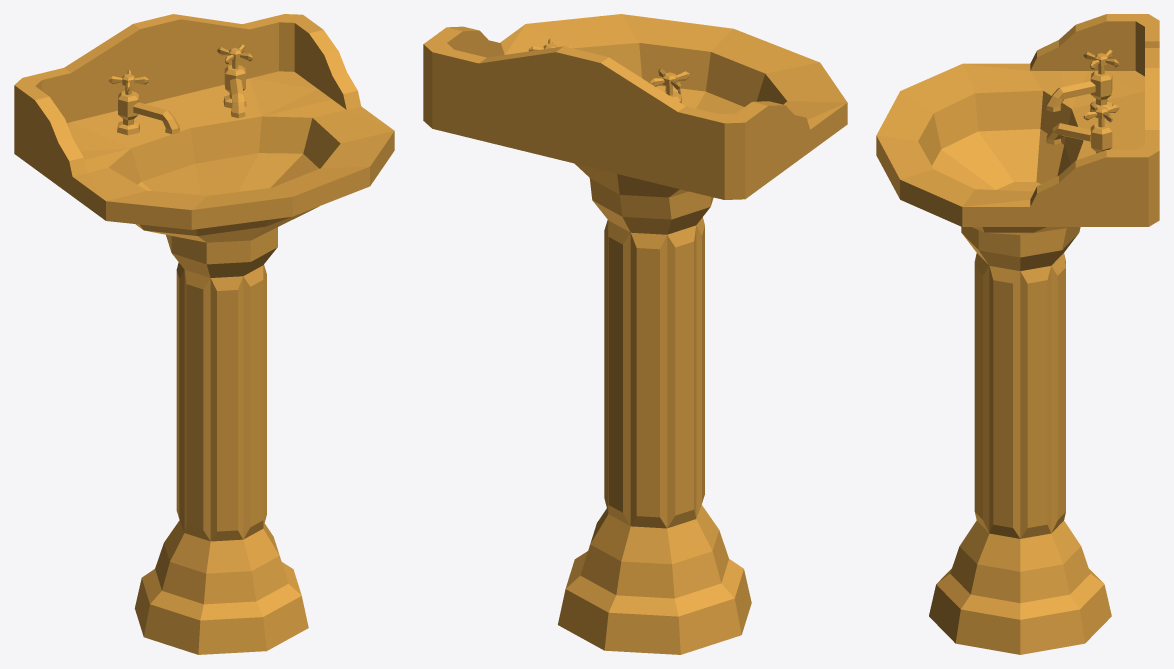
The model's file is SM_Sink_Victorian_B.fbx.
3 renders of one model, left to right at view 1: azimuth 30°, elevation 25°; view 2: azimuth 150°, elevation 25°; view 3: azimuth 270°, elevation 25°, orthographic. The views are drawn at different scales.
Parts seen in each view (by area): view 1: sink-victorian-b; view 2: sink-victorian-b; view 3: sink-victorian-b.
Boxes of the visible parts, <box> form: sink-victorian-b: <box>14,14,394,654</box>; sink-victorian-b: <box>423,14,847,654</box>; sink-victorian-b: <box>876,14,1159,654</box>.
Size of the model in its own units: 0.5985 by 1.09 by 0.5002.
